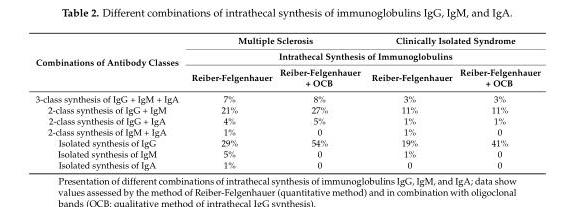table: (34, 34, 539, 169)
table column: (34, 34, 184, 169), (184, 34, 275, 169), (275, 34, 365, 169), (365, 34, 455, 169), (455, 34, 539, 169)
table column header: (34, 34, 539, 90)
table row: (34, 63, 539, 90), (34, 48, 539, 63), (34, 34, 539, 48), (34, 90, 539, 104), (34, 104, 539, 115), (34, 115, 539, 126), (34, 136, 539, 147), (34, 147, 539, 158), (34, 158, 539, 169), (34, 126, 539, 136)
table spanning cell: (34, 34, 184, 90), (184, 48, 539, 63), (184, 34, 365, 48), (365, 34, 539, 48)
